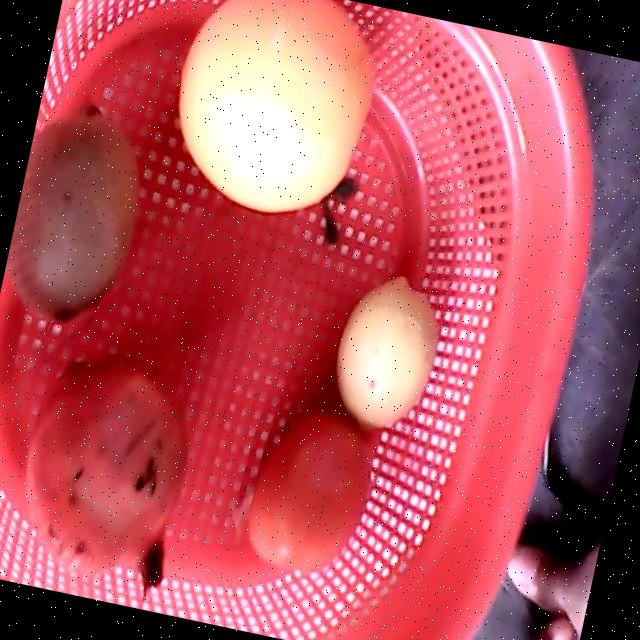kiwi: (6, 104, 138, 324)
lemon: (334, 274, 440, 426)
orange: (178, 0, 374, 210)
pomegranate: (24, 351, 189, 599)
tomato: (247, 406, 371, 572)
